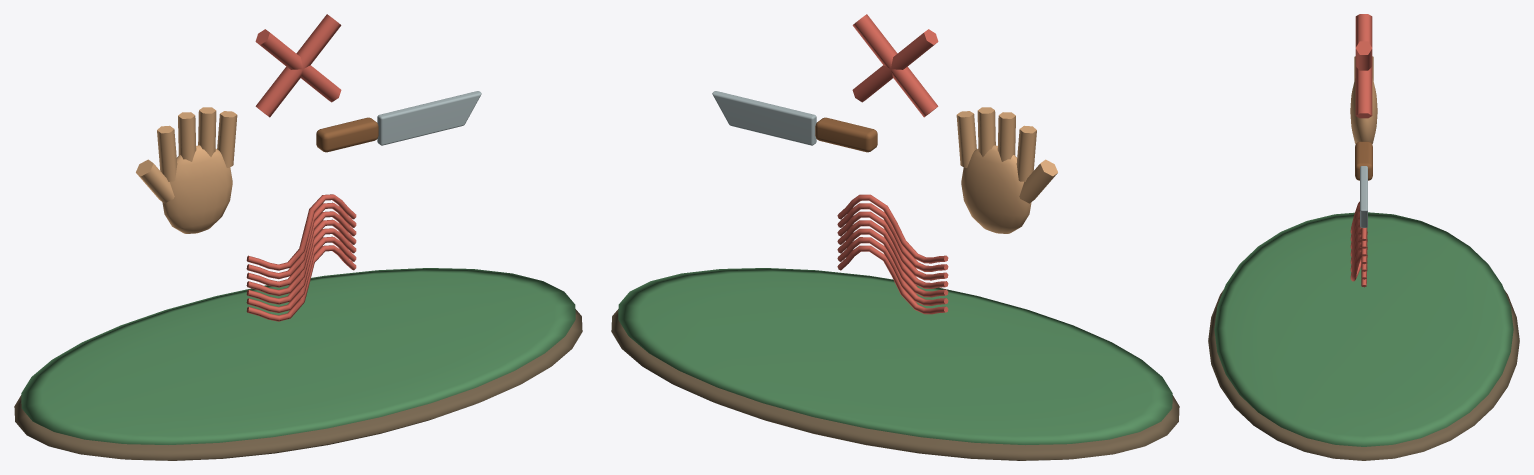
Rendered from complete-second-refuse-cut-off.glb.
The picture shows the model from 3 angles, left to right: view 1: azimuth 30°, elevation 25°; view 2: azimuth 150°, elevation 25°; view 3: azimuth 270°, elevation 25°; orthographic projection. The views are drawn at different scales.
Parts seen in each view (by area): view 1: complete-second-refuse-cut-off_surface_01, complete-second-refuse-cut-off_surface_00, complete-second-refuse-cut-off_surface_05, complete-second-refuse-cut-off_surface_02, complete-second-refuse-cut-off_surface_04, complete-second-refuse-cut-off_surface_03; view 2: complete-second-refuse-cut-off_surface_01, complete-second-refuse-cut-off_surface_00, complete-second-refuse-cut-off_surface_05, complete-second-refuse-cut-off_surface_02, complete-second-refuse-cut-off_surface_04, complete-second-refuse-cut-off_surface_03; view 3: complete-second-refuse-cut-off_surface_01, complete-second-refuse-cut-off_surface_00, complete-second-refuse-cut-off_surface_05, complete-second-refuse-cut-off_surface_02, complete-second-refuse-cut-off_surface_03, complete-second-refuse-cut-off_surface_04.
Part boxes in pixels (left/top/right/bottom): complete-second-refuse-cut-off_surface_01: left=21, top=268, right=575, bottom=444; complete-second-refuse-cut-off_surface_00: left=14, top=309, right=582, bottom=460; complete-second-refuse-cut-off_surface_05: left=246, top=14, right=356, bottom=321; complete-second-refuse-cut-off_surface_02: left=136, top=107, right=237, bottom=233; complete-second-refuse-cut-off_surface_04: left=377, top=91, right=481, bottom=145; complete-second-refuse-cut-off_surface_03: left=316, top=117, right=378, bottom=152; complete-second-refuse-cut-off_surface_01: left=618, top=268, right=1172, bottom=444; complete-second-refuse-cut-off_surface_00: left=611, top=309, right=1179, bottom=460; complete-second-refuse-cut-off_surface_05: left=837, top=14, right=948, bottom=314; complete-second-refuse-cut-off_surface_02: left=956, top=107, right=1057, bottom=233; complete-second-refuse-cut-off_surface_04: left=712, top=91, right=816, bottom=145; complete-second-refuse-cut-off_surface_03: left=815, top=117, right=877, bottom=152; complete-second-refuse-cut-off_surface_01: left=1214, top=212, right=1513, bottom=446; complete-second-refuse-cut-off_surface_00: left=1208, top=289, right=1519, bottom=460; complete-second-refuse-cut-off_surface_05: left=1350, top=14, right=1372, bottom=287; complete-second-refuse-cut-off_surface_02: left=1350, top=56, right=1377, bottom=144; complete-second-refuse-cut-off_surface_03: left=1355, top=141, right=1372, bottom=180; complete-second-refuse-cut-off_surface_04: left=1360, top=166, right=1367, bottom=227.
Bounding box in the file's own units: 4.56 × 2.9 × 2.5.
